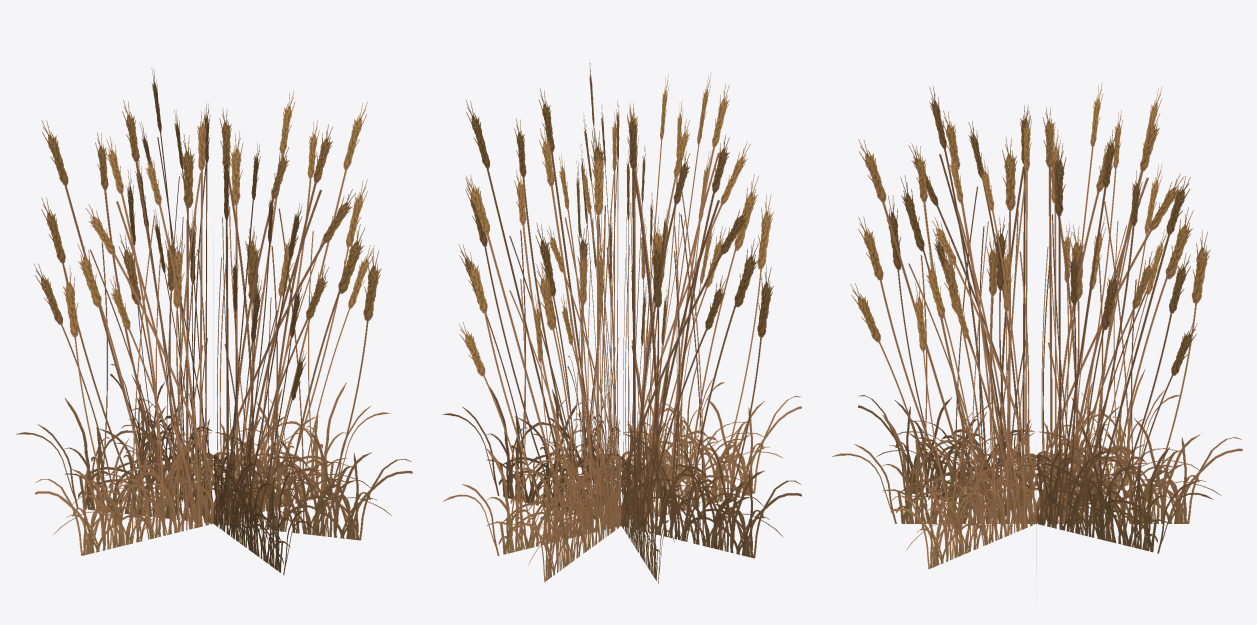
The model's file is wheat.glb.
3 renders of one model, left to right at view 1: azimuth 30°, elevation 25°; view 2: azimuth 150°, elevation 25°; view 3: azimuth 270°, elevation 25°, orthographic.
Parts seen in each view (by area): view 1: g; view 2: g; view 3: g.
Boxes of the visible parts, x1,y1,x2,y2 form: g: (16, 68, 412, 574); g: (443, 60, 801, 583); g: (832, 83, 1242, 569).
Size of the model in its own units: 1.77 by 2 by 1.77.
Materials: 1 (1 with a texture image).
